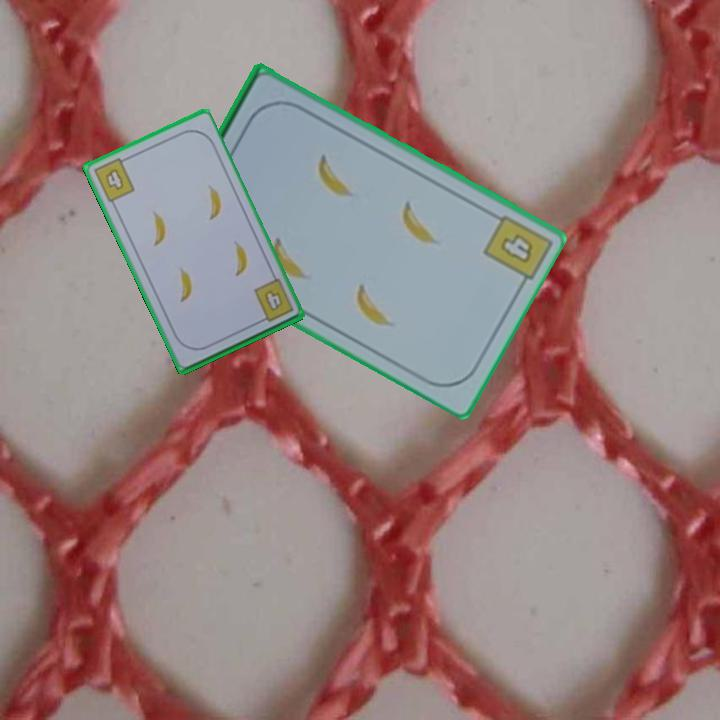4b: (90, 153, 138, 205), (250, 275, 296, 326), (497, 230, 537, 266)
